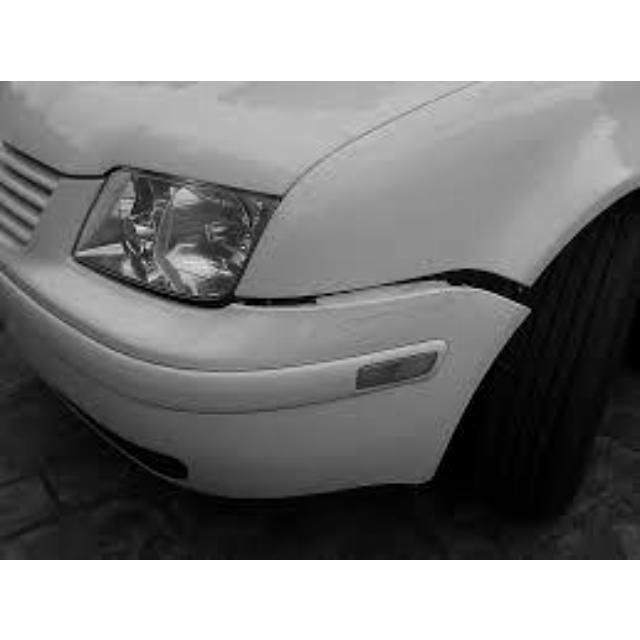Headlight-damage: (50, 130, 304, 335)
